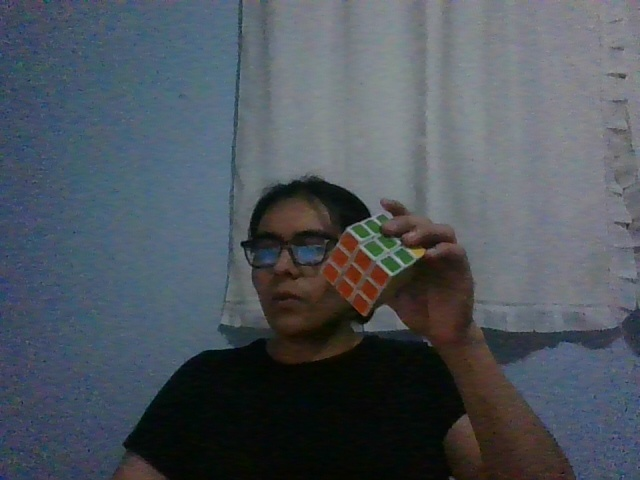rubik: (319, 211, 425, 317)
